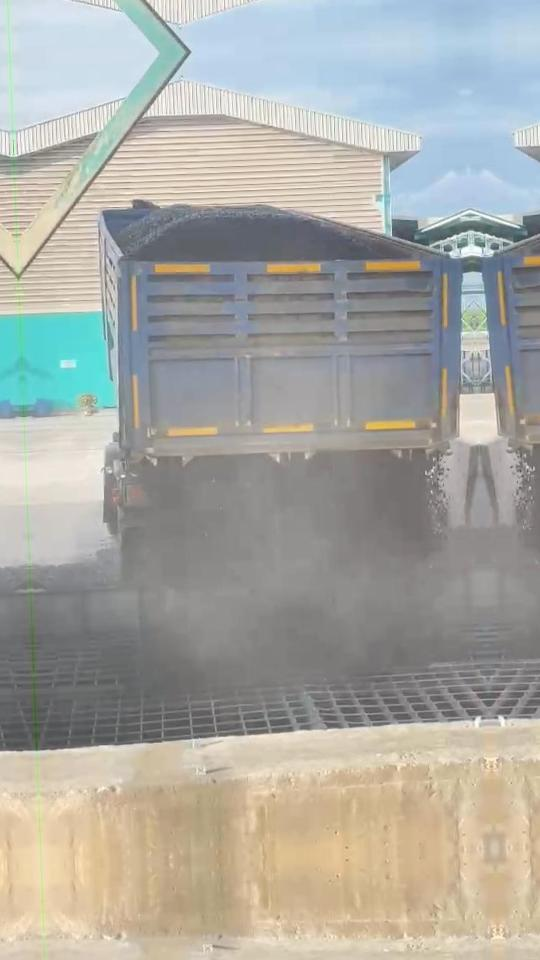gravel: (122, 452, 447, 669), (116, 204, 419, 261), (32, 547, 118, 593)
